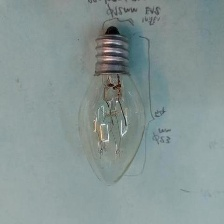light_bulb: (73, 21, 151, 189)
